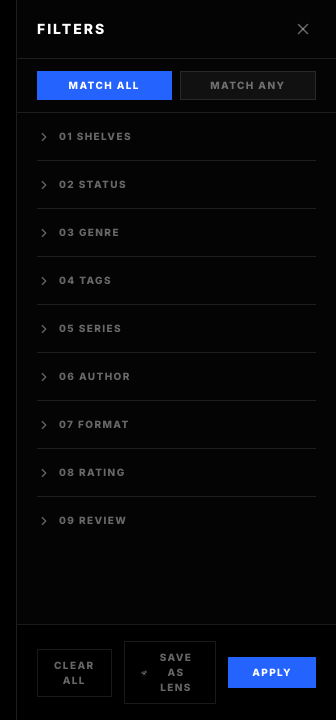
Scenario: FilterDrawer › search filters the checkbox list
Note: Expand genre section
Click the button with test id "accordion-genre" at [99, 232], box [37,225,316,240]
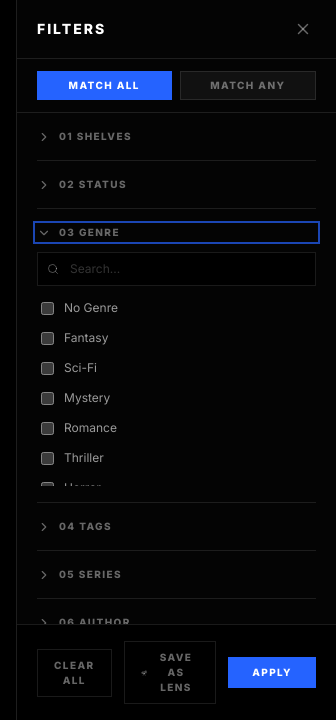
Result: the text "Fantasy" is shown at [64,330,108,346]
Note: Search for "Sci"
Type "Sci" into the field with test id "filter-search-input" at [176, 269], box [37,252,316,286]
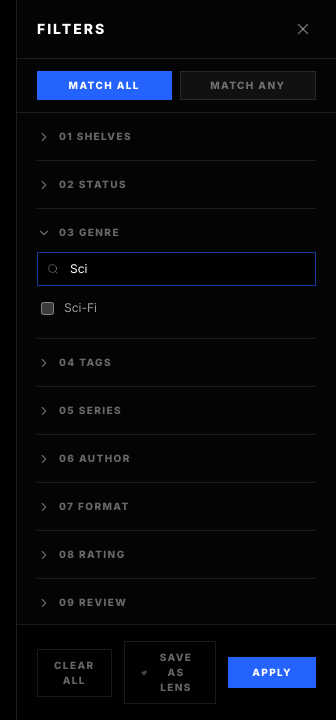
Result: the text "Sci-Fi" is shown at [64,300,97,316]
Result: the text "Fantasy" is gone
Result: the text "Mystery" is gone
